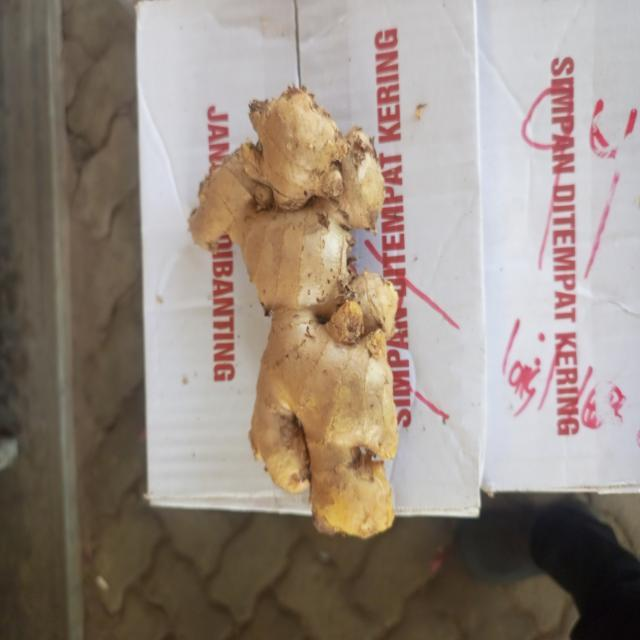ginger: (199, 96, 402, 534)
